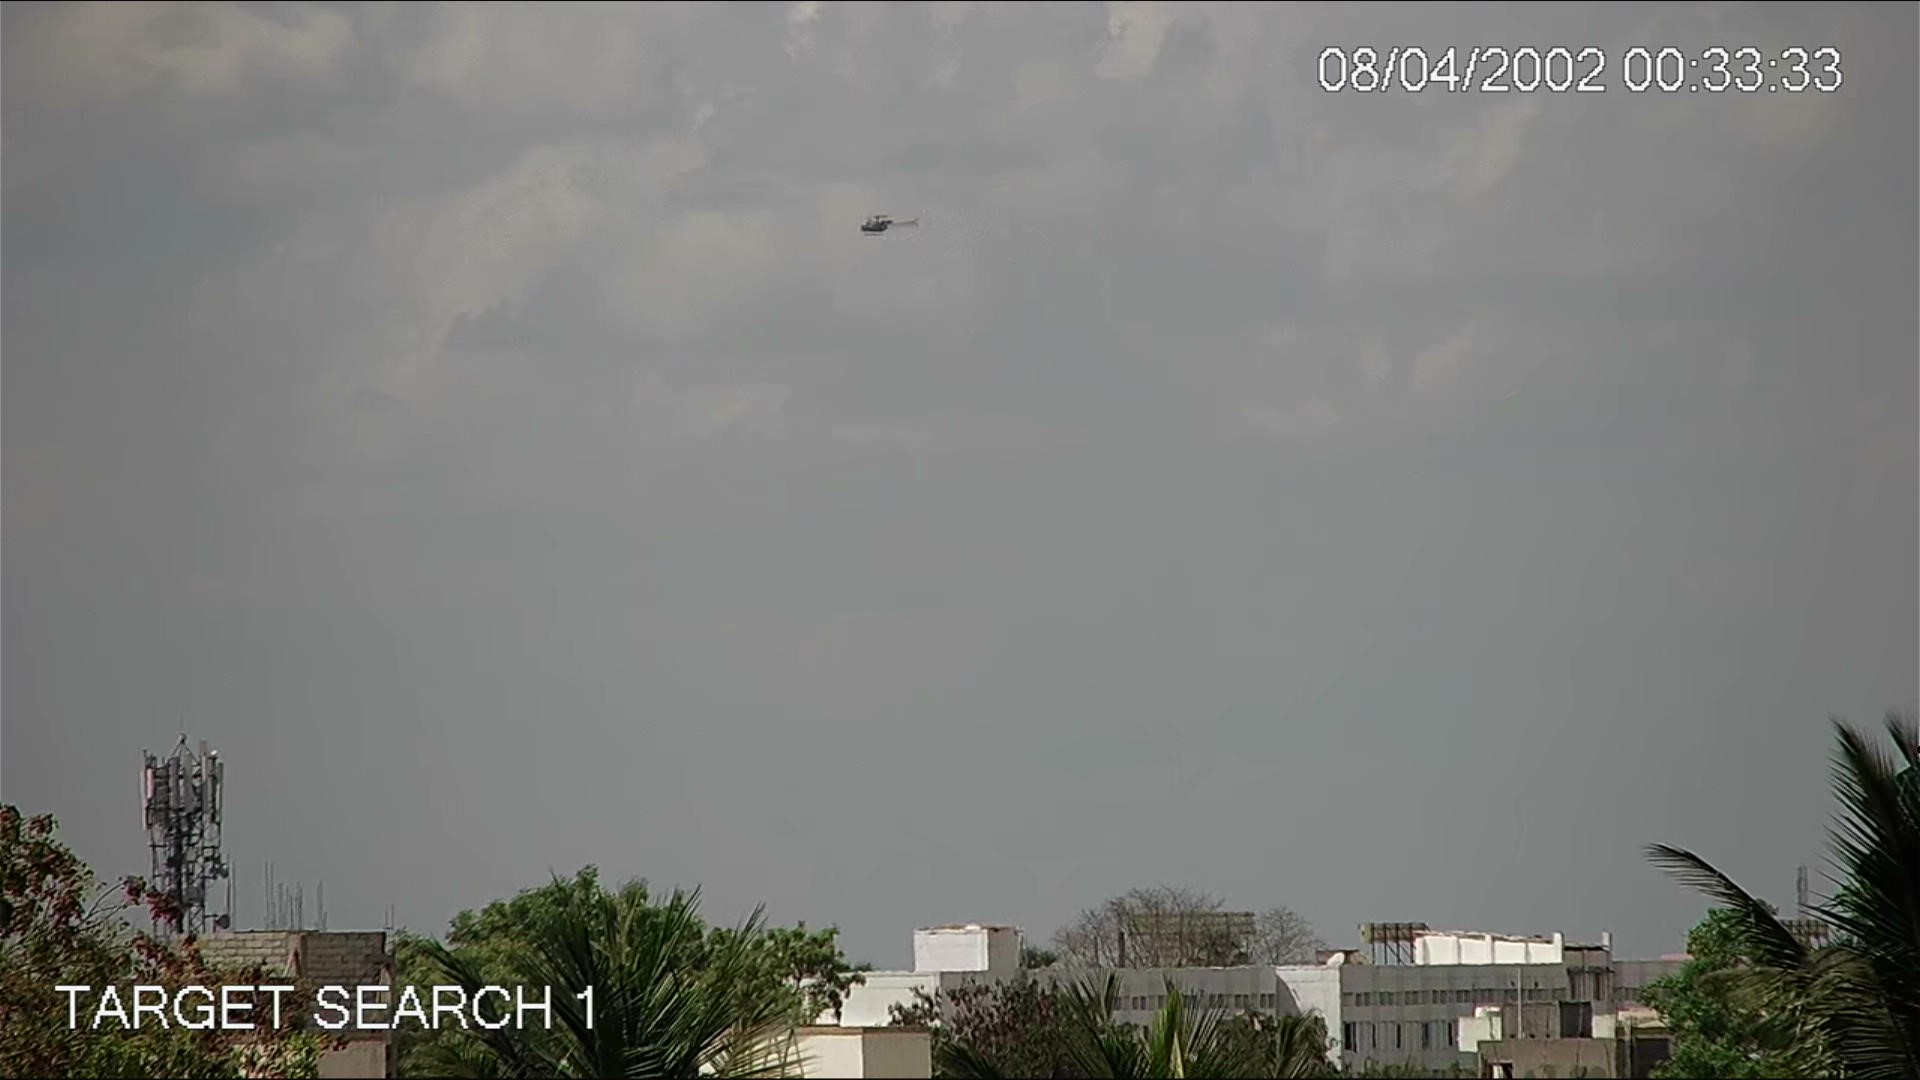SU_30: (858, 210, 926, 243)
